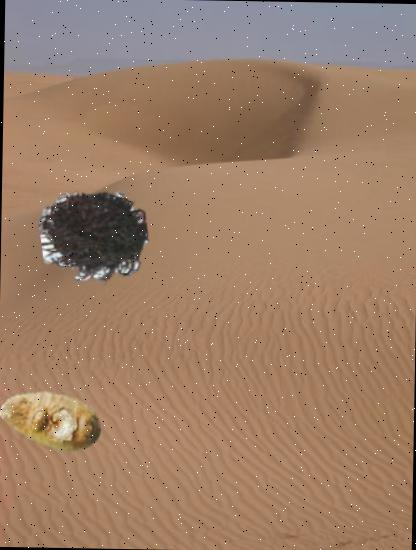Ginger: (0, 367, 103, 472)
Rambutan: (40, 183, 150, 293)
